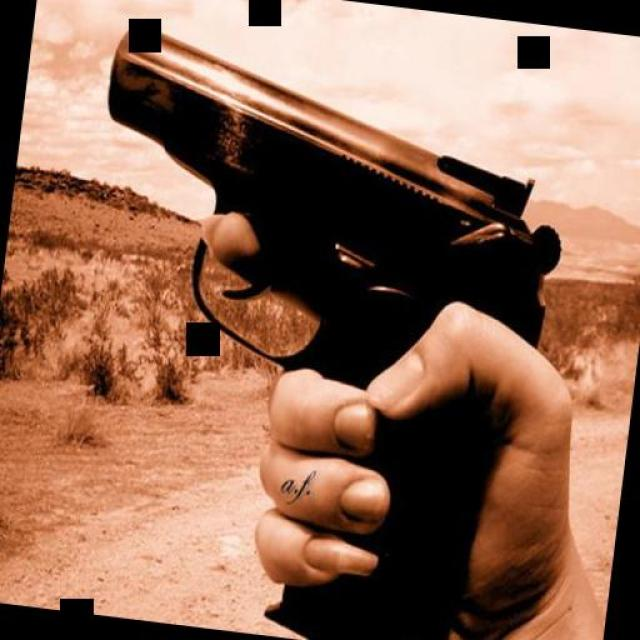gun: (38, 4, 582, 640)
